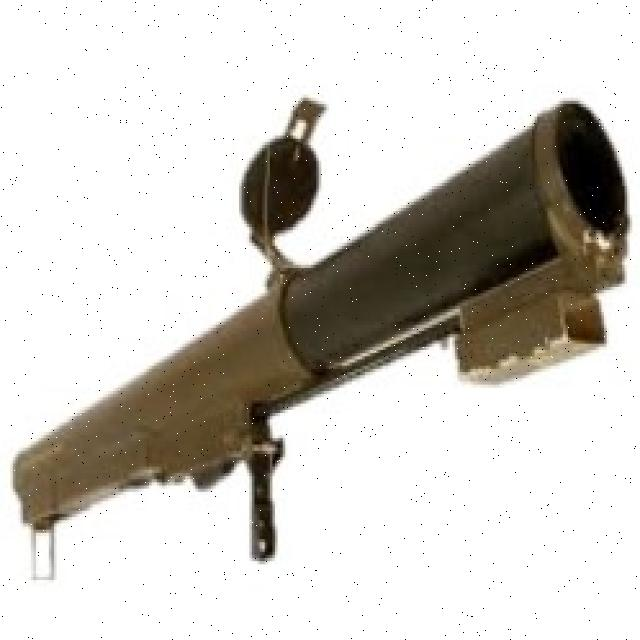bazooka: (1, 78, 640, 592)
